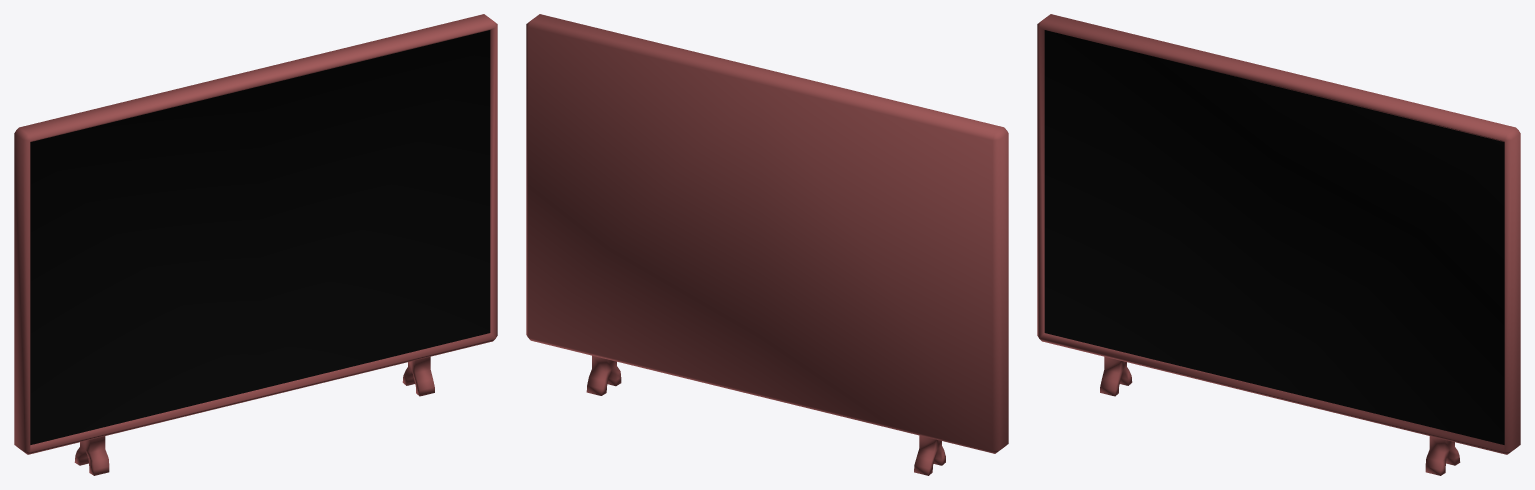
3 renders of one model, left to right at view 1: azimuth 30°, elevation 25°; view 2: azimuth 150°, elevation 25°; view 3: azimuth 330°, elevation 25°, orthographic.
Parts seen in each view (by area): view 1: TV; view 2: TV; view 3: TV.
Part boxes in pixels (box(x1,y1,x2,y2)): TV: box(14, 14, 497, 475); TV: box(526, 14, 1008, 475); TV: box(1037, 14, 1520, 475).
Size of the model in its own units: 281 by 200 by 18.83.
